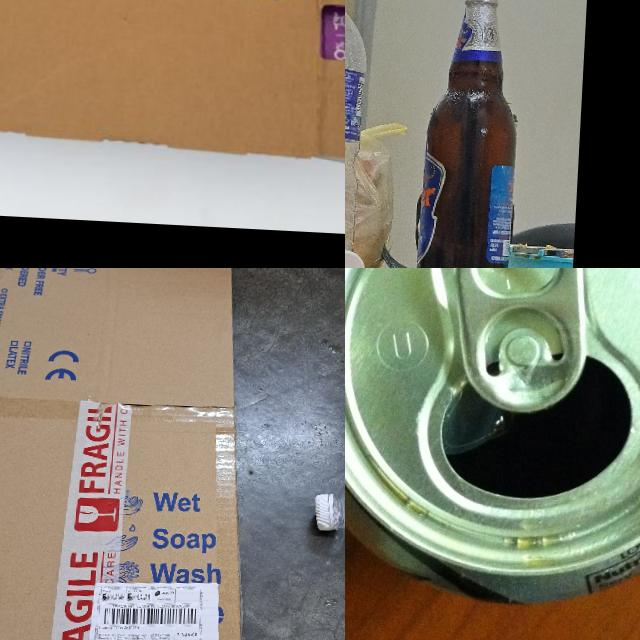aba de lata: (446, 268, 593, 417)
garrafa de vidro: (415, 0, 524, 268)
garrafa plástica: (345, 0, 371, 253)
lata: (345, 268, 640, 611)
papelão: (0, 268, 274, 640), (0, 0, 345, 172)
tampa plástica: (311, 493, 336, 532)
